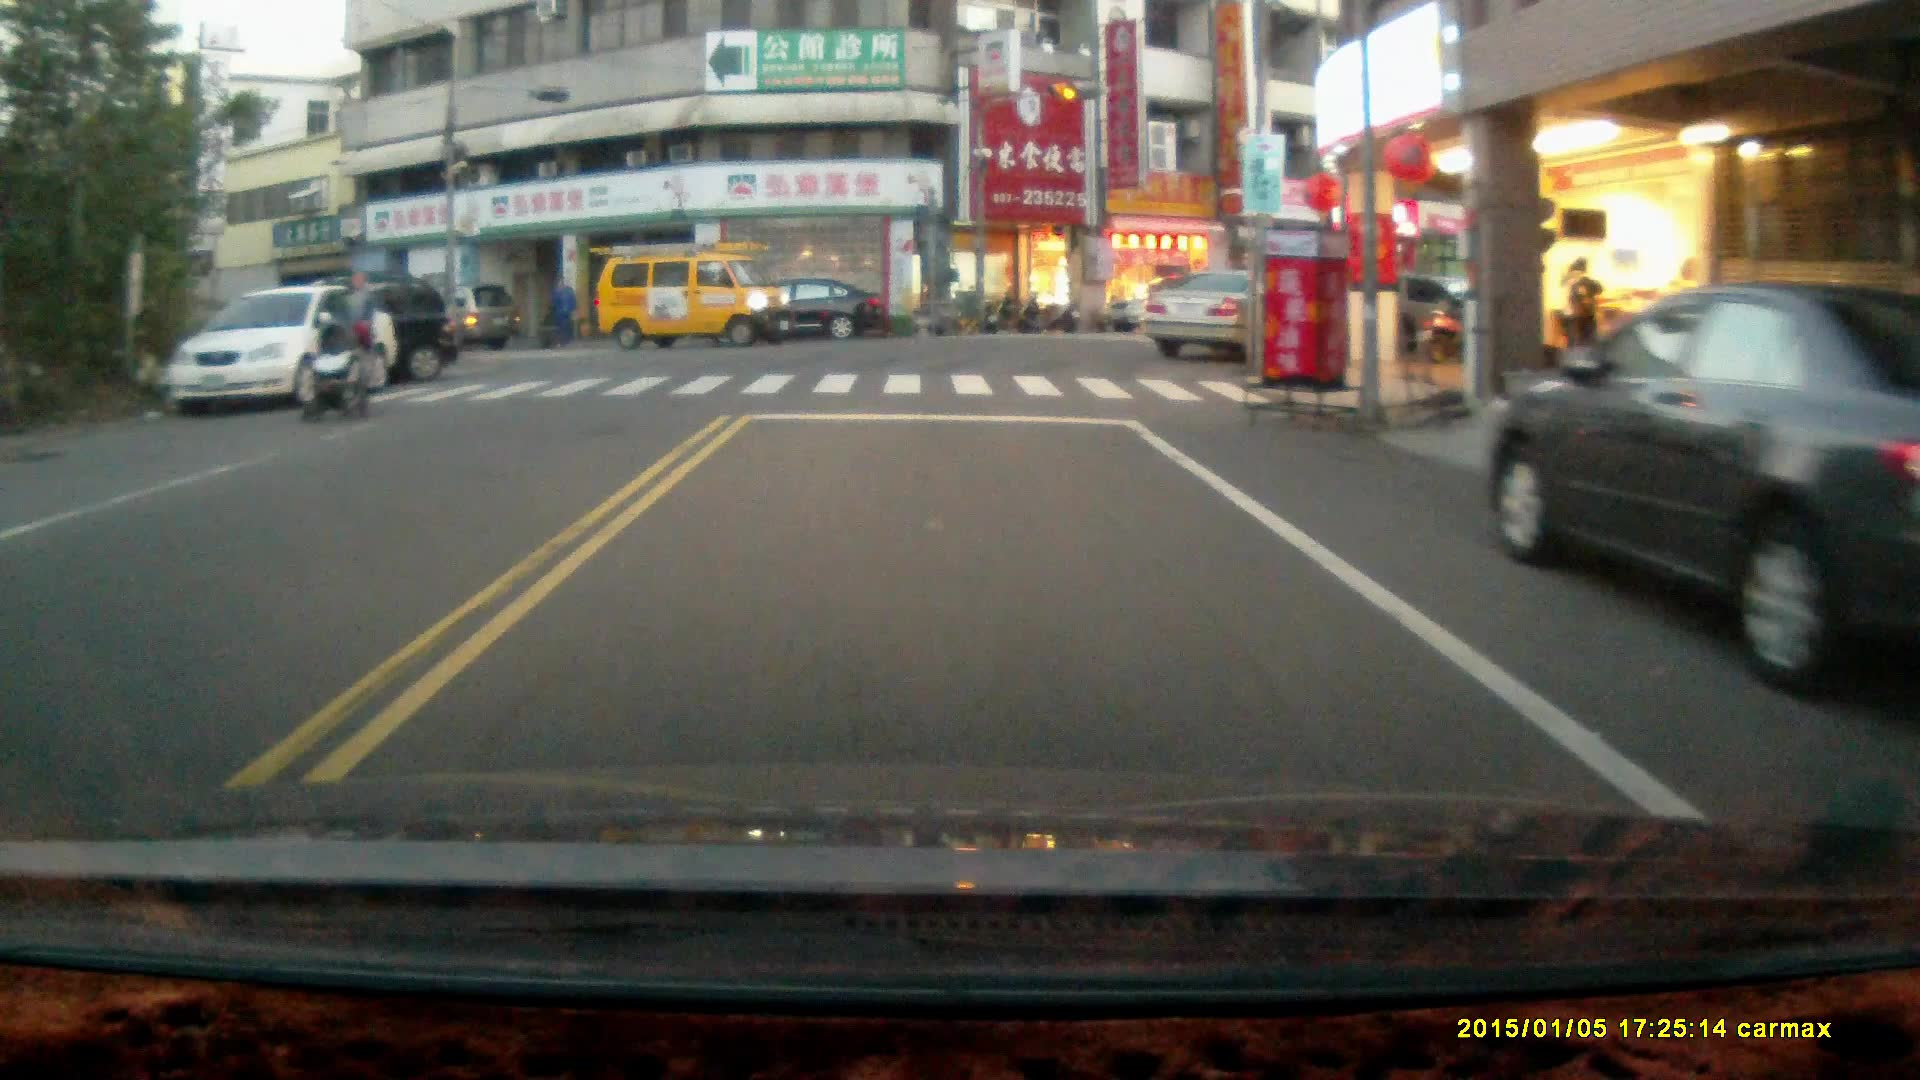pedestrian: (331, 269, 377, 404), (1567, 260, 1601, 384), (548, 275, 574, 348)
rider: (296, 318, 371, 428)
vehicle: (1488, 297, 1920, 712), (163, 288, 393, 417), (243, 269, 458, 385), (596, 243, 794, 350), (1145, 276, 1283, 367), (720, 275, 886, 347), (396, 281, 530, 361)
